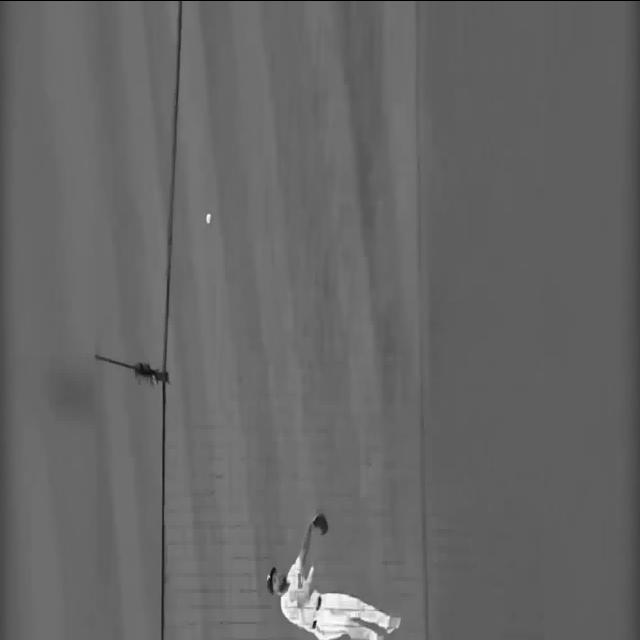baseball: (206, 211, 212, 224)
baseball_glove: (312, 511, 329, 533)
